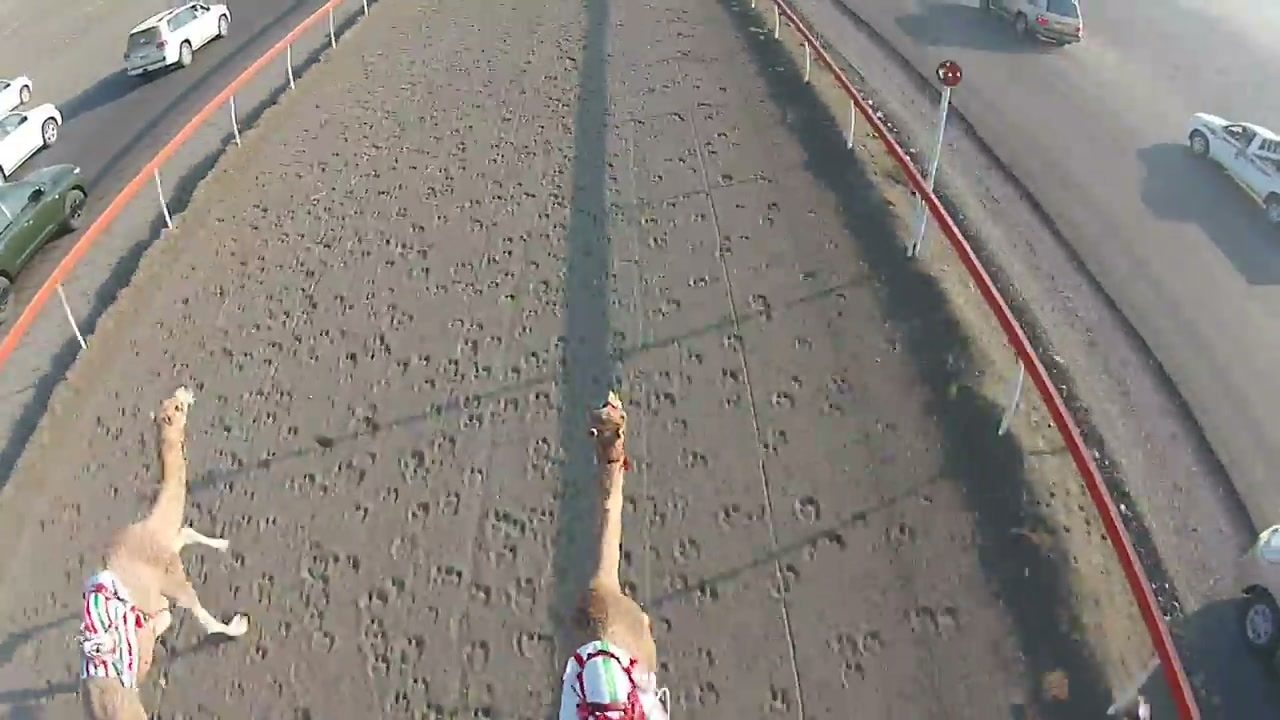animal_foot_print: (389, 135, 575, 719), (699, 108, 880, 698), (226, 120, 406, 668), (612, 144, 766, 695)
